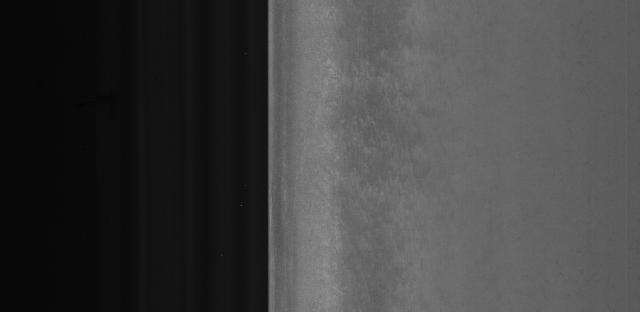silk_spot: (333, 24, 432, 280)
